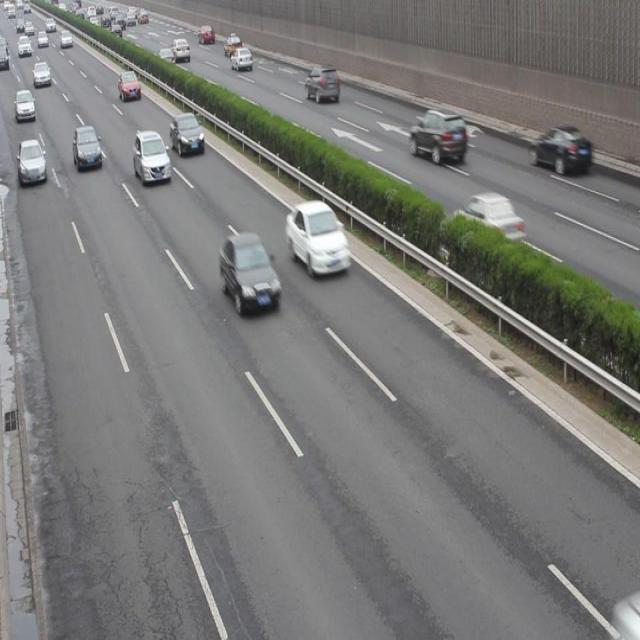car: (219, 232, 281, 317), (285, 200, 350, 276), (453, 193, 521, 249), (409, 108, 467, 166), (529, 126, 590, 180), (134, 130, 172, 188), (169, 110, 205, 158), (72, 125, 104, 174), (304, 63, 339, 105), (17, 138, 47, 186)
